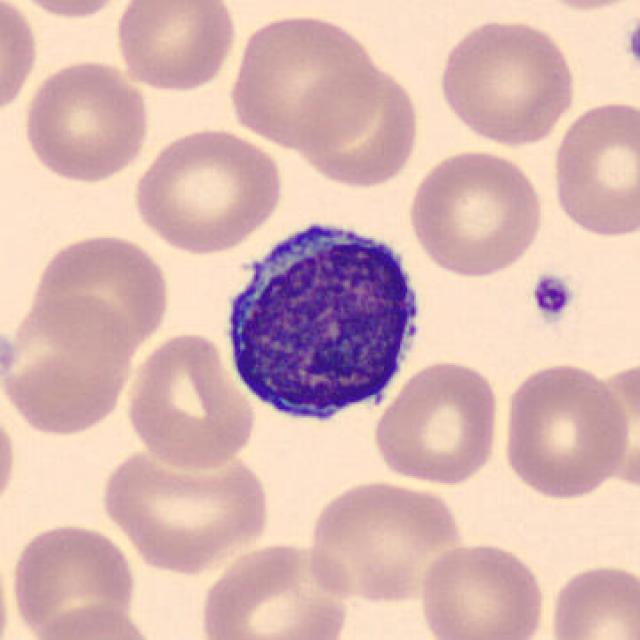Lymphocyte: (215, 208, 432, 432)
Platelets: (528, 270, 576, 326), (622, 12, 640, 80), (0, 328, 18, 386)
RBC: (96, 439, 276, 575), (224, 8, 382, 152), (302, 476, 470, 605), (0, 289, 140, 437), (130, 124, 286, 255), (121, 328, 258, 471), (498, 358, 634, 502), (434, 14, 580, 148), (403, 146, 548, 278), (25, 229, 174, 356), (292, 56, 423, 192), (370, 356, 503, 488), (19, 56, 153, 187), (195, 537, 355, 640), (7, 518, 139, 640), (414, 539, 549, 640), (548, 95, 638, 242), (112, 0, 240, 93), (579, 356, 640, 495), (544, 559, 638, 640), (25, 601, 163, 640), (0, 0, 39, 122), (5, 0, 139, 21), (0, 404, 20, 520), (521, 0, 640, 14)
